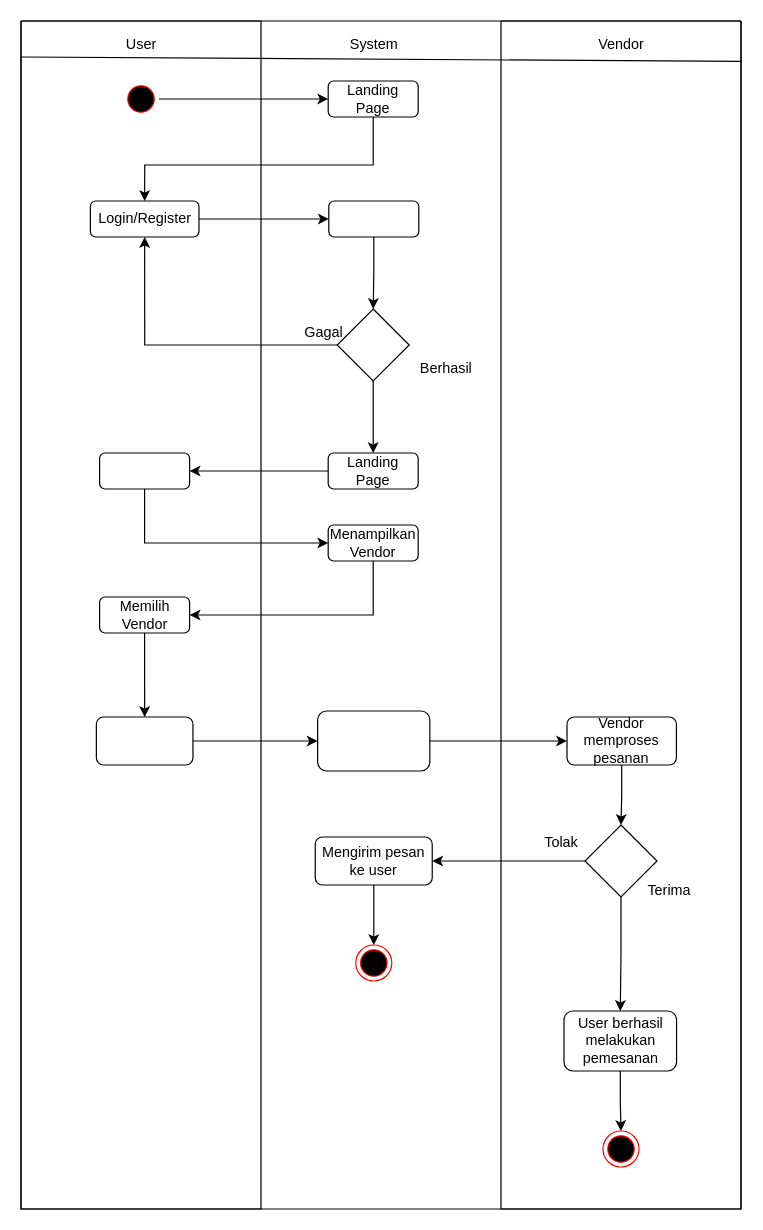
Some shapes in this 763 by 1230 pixel diagram are drawn without their labels. The centre of each missing label's shape, as x and y in pixels:
Autentikasi: the point at 373,218
Memilih Kategori: the point at 144,470
Mengirim pesanan user ke vendor: the point at 373,740
Mengisi Form Pemesanan: the point at 144,740
